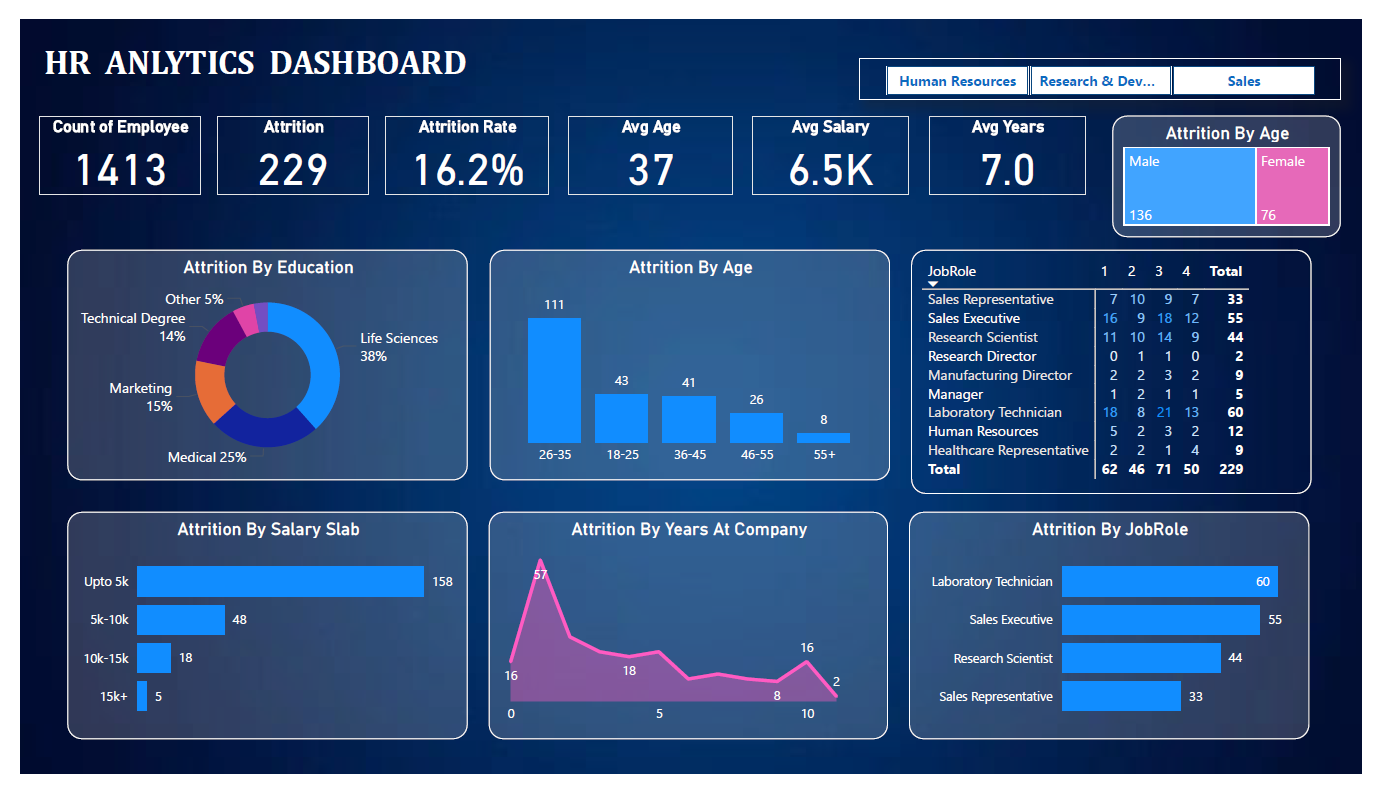

Layout of this report page (visuals, bound fields, positions):
{"tool":"powerbi","page":{"name":"Page 1","canvas":[1280,720],"ordinal":0},"visuals":[{"type":"card","title":"Count of Employee","fields":{"Values":["CountNonNull(HR_Analytics.EmpID)"]},"box":[18.3,91.7,155,76.7],"z":0},{"type":"card","title":"Avg Age","fields":{"Values":["Avg(HR_Analytics.Age)"]},"box":[523.3,91.7,156.7,76.7],"z":1000},{"type":"card","title":"Attrition","fields":{"Values":["Sum(HR_Analytics.AttritionCount)"]},"box":[188.3,91.7,145,76.7],"z":2000},{"type":"card","title":"Attrition Rate","fields":{"Values":["HR_Analytics.AttritionRate"]},"box":[348.3,91.7,156.7,76.7],"z":3000},{"type":"card","title":"Avg Years","fields":{"Values":["Avg(HR_Analytics.YearsAtCompany)"]},"box":[866.7,91.7,150,76.7],"z":4000},{"type":"card","title":"Avg Salary","fields":{"Values":["Avg(HR_Analytics.MonthlyIncome)"]},"box":[698.3,91.7,150,76.7],"z":5000},{"type":"donutChart","title":"Attrition By Education","fields":{"Category":["HR_Analytics.EducationField"],"Y":["Sum(HR_Analytics.AttritionCount)"]},"box":[45,220,381.7,220],"z":6000},{"type":"columnChart","title":"Attrition By Age","fields":{"Category":["HR_Analytics.AgeGroup"],"Y":["Sum(HR_Analytics.AttritionCount)"]},"box":[448.3,220,381.7,220],"z":7000},{"type":"pivotTable","title":"Job Satisfaction","fields":{"Rows":["HR_Analytics.JobRole"],"Columns":["HR_Analytics.JobSatisfaction"],"Values":["Sum(HR_Analytics.AttritionCount)"]},"box":[850,220,381.7,233.3],"z":8000},{"type":"barChart","title":"Attrition By Salary Slab","fields":{"Category":["HR_Analytics.SalarySlab"],"Y":["Sum(HR_Analytics.AttritionCount)"]},"box":[45,470,381.7,216.7],"z":9000},{"type":"barChart","title":"Attrition By JobRole","fields":{"Category":["HR_Analytics.JobRole"],"Y":["Sum(HR_Analytics.AttritionCount)"]},"box":[848.3,470,381.7,216.7],"z":10000},{"type":"areaChart","title":"Attrition By Years At Company","fields":{"Category":["HR_Analytics.YearsAtCompany"],"Y":["Sum(HR_Analytics.AttritionCount)"]},"box":[446.7,470,381.7,216.7],"z":11000},{"type":"treemap","title":"Attrition By Age","fields":{"Group":["HR_Analytics.Gender"],"Values":["Sum(HR_Analytics.AttritionCount)"]},"box":[1041.7,91.7,218.3,116.7],"z":12000},{"type":"textbox","box":[18.3,0,428.3,73.3],"z":14000},{"type":"slicer","fields":{"Values":["HR_Analytics.Department"]},"box":[800,36.7,460,40],"z":14001}]}

Visuals, with their boxes in screenshot pixels (x1, y1, x2, y2), scaled from the page's 1280x720 canvas onto the 1379x792 screenshot:
"Count of Employee" card: (x1=20, y1=101, x2=187, y2=185)
"Avg Age" card: (x1=564, y1=101, x2=733, y2=185)
"Attrition" card: (x1=203, y1=101, x2=359, y2=185)
"Attrition Rate" card: (x1=375, y1=101, x2=544, y2=185)
"Avg Years" card: (x1=934, y1=101, x2=1095, y2=185)
"Avg Salary" card: (x1=752, y1=101, x2=914, y2=185)
"Attrition By Education" donutChart: (x1=48, y1=242, x2=460, y2=484)
"Attrition By Age" columnChart: (x1=483, y1=242, x2=894, y2=484)
"Job Satisfaction" pivotTable: (x1=916, y1=242, x2=1327, y2=499)
"Attrition By Salary Slab" barChart: (x1=48, y1=517, x2=460, y2=755)
"Attrition By JobRole" barChart: (x1=914, y1=517, x2=1325, y2=755)
"Attrition By Years At Company" areaChart: (x1=481, y1=517, x2=892, y2=755)
"Attrition By Age" treemap: (x1=1122, y1=101, x2=1357, y2=229)
textbox: (x1=20, y1=0, x2=481, y2=81)
slicer - HR_Analytics.Department: (x1=862, y1=40, x2=1357, y2=84)
